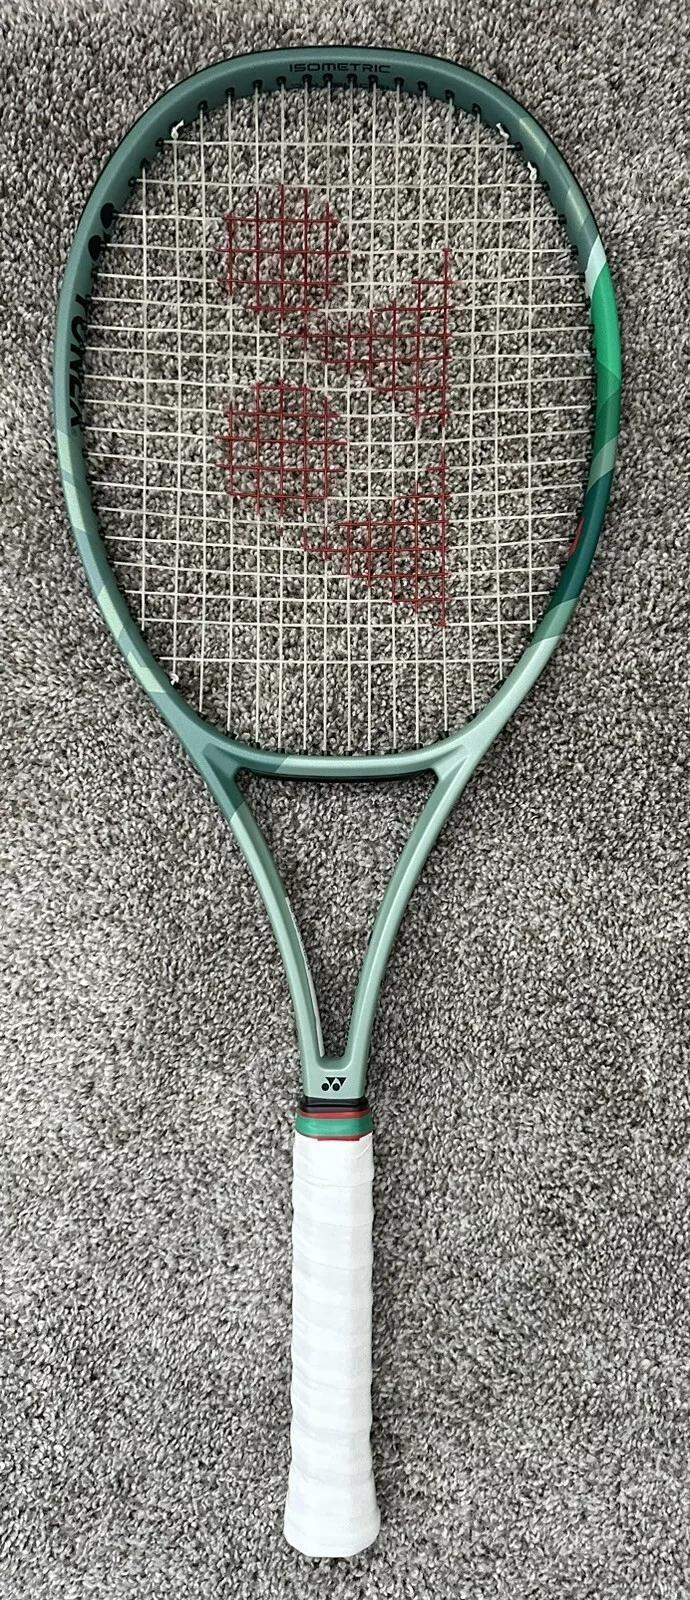Tennis-Racket: (56, 47, 622, 1556)
